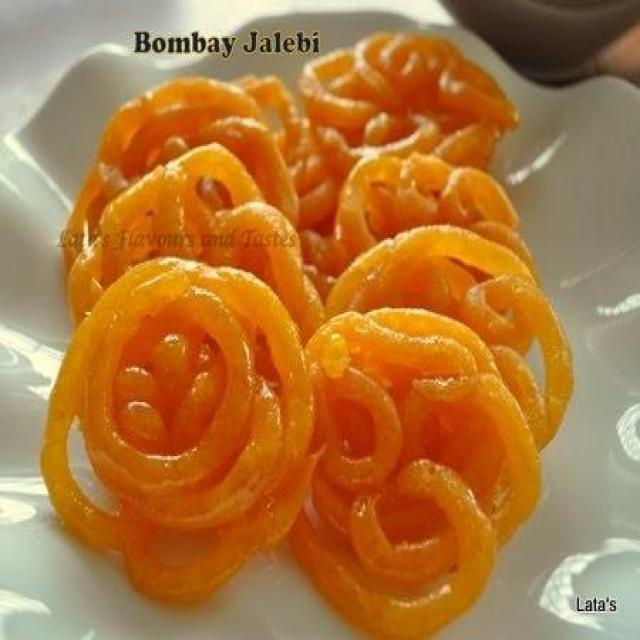jalebi: (55, 42, 559, 613)
